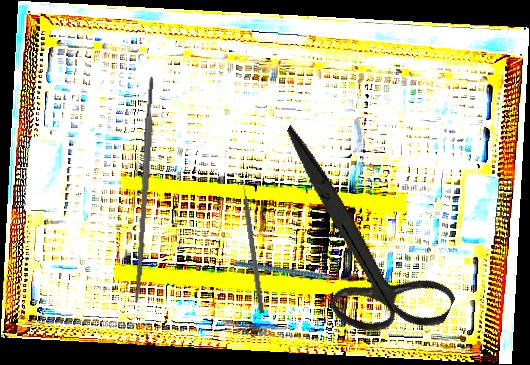Chopper: (234, 223, 356, 316), (240, 177, 272, 314)
Iris Scissors: (224, 123, 493, 361)
Scalpel Handle: (132, 75, 158, 304)
